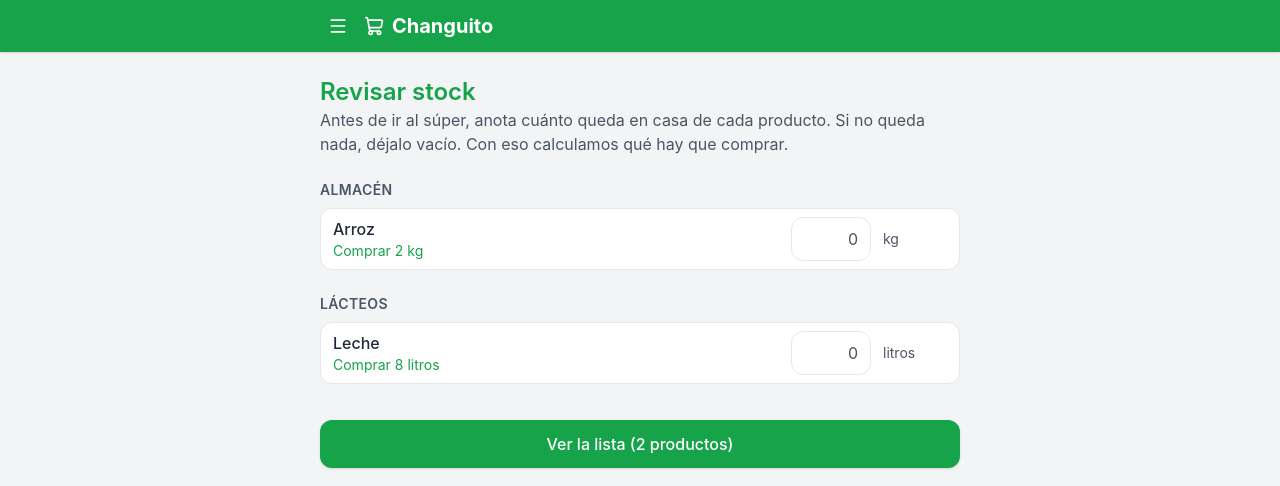
Test: StockReviewPage › leaves out of the list products with enough stock
Type "2" into the field named "¿Cuánto queda de Arroz?" at (831, 239), box [791,217,871,261]
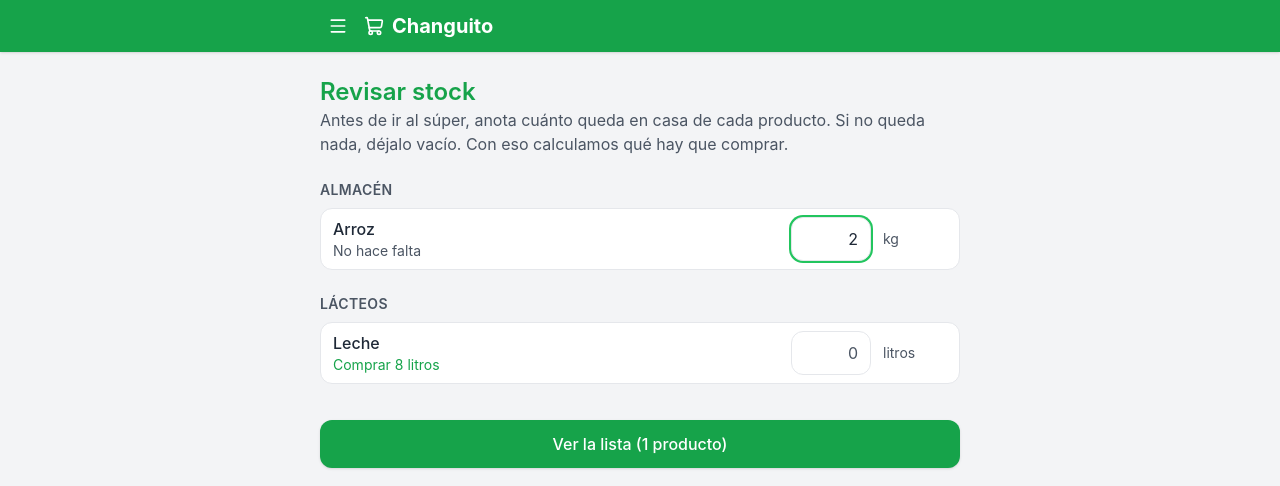
Click the button "Ver la lista (1 producto)" at (640, 444), box [320,420,960,468]
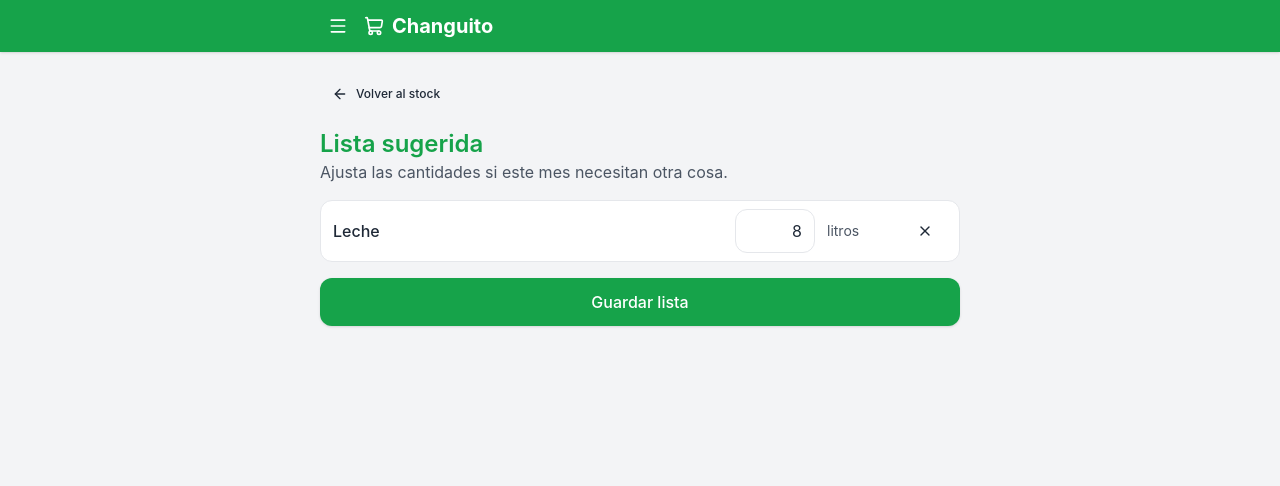
Check: the text "Leche" is shown, box [333,221,380,241]
Check: the text "Arroz" is gone
